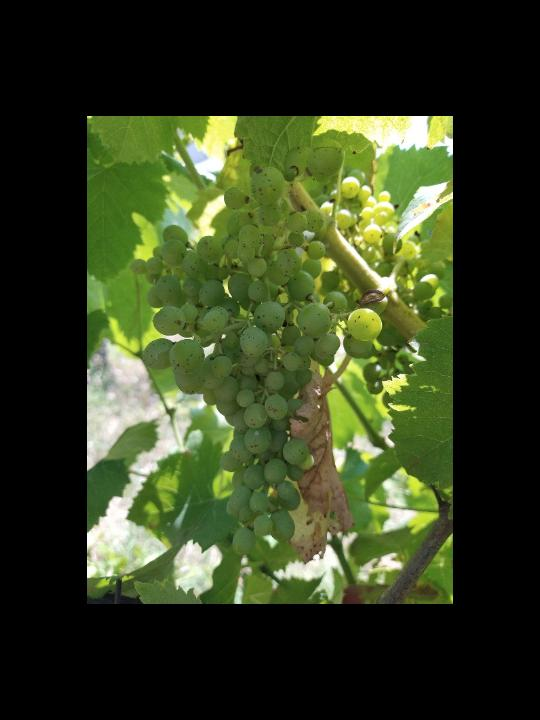grape: (131, 136, 388, 556)
